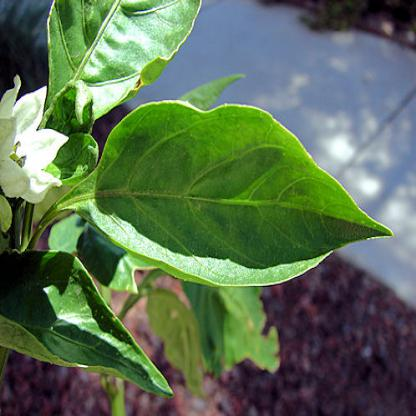bell pepper leaf: (88, 97, 396, 280)
